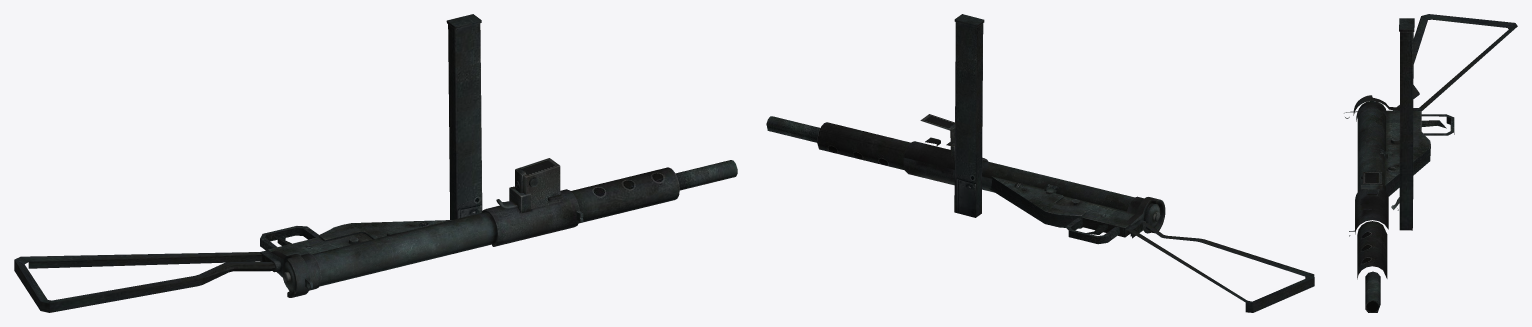
Rendered from viewmodel_sten.glb.
The picture shows the model from 3 angles, left to right: view 1: azimuth 30°, elevation 25°; view 2: azimuth 150°, elevation 25°; view 3: azimuth 270°, elevation 25°; orthographic projection. The views are drawn at different scales.
Bounding box in the file's own units: 29.98 × 9.73 × 7.69.
Materials: 1 (1 with a texture image).
